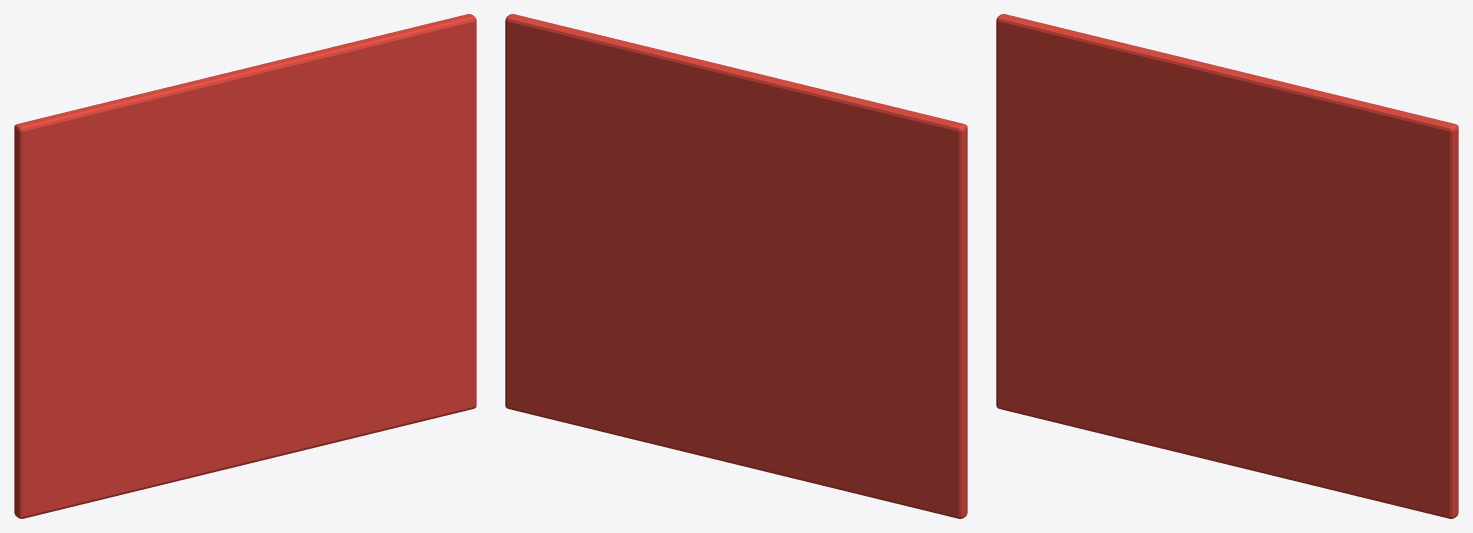
The model's file is GateFlagRedModel.glb.
The picture shows the model from 3 angles, left to right: view 1: azimuth 30°, elevation 25°; view 2: azimuth 150°, elevation 25°; view 3: azimuth 330°, elevation 25°; orthographic projection.
Parts seen in each view (by area): view 1: GateFlagRedModel; view 2: GateFlagRedModel; view 3: GateFlagRedModel.
Boxes of the visible parts, x1,y1,x2,y2 form: GateFlagRedModel: (14,14,476,518); GateFlagRedModel: (505,14,967,518); GateFlagRedModel: (996,14,1458,518).
Size of the model in its own units: 0.55 by 0.45 by 0.015.
